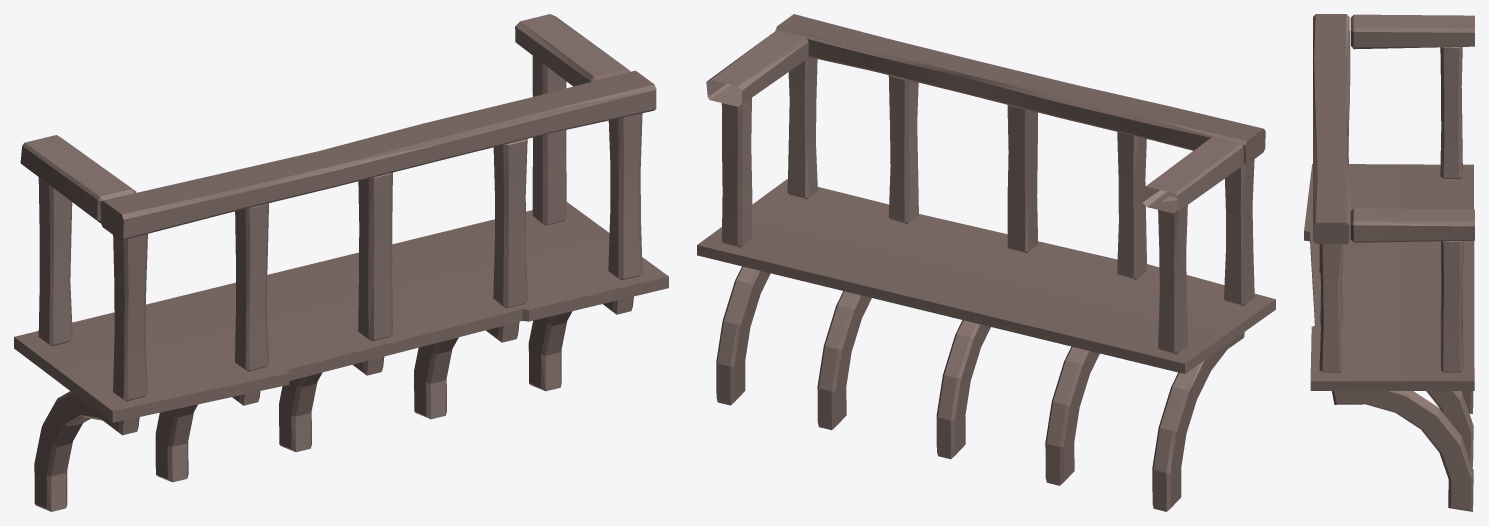
Rendered from balcony_big.glb.
The picture shows the model from 3 angles, left to right: view 1: azimuth 30°, elevation 25°; view 2: azimuth 150°, elevation 25°; view 3: azimuth 270°, elevation 25°; orthographic projection. The views are drawn at different scales.
Visible parts, largest first — view 1: balcony_B_med_diffuse_0; view 2: balcony_B_med_diffuse_0; view 3: balcony_B_med_diffuse_0.
Part boxes in pixels (<box>): balcony_B_med_diffuse_0: <box>14,14,668,511</box>; balcony_B_med_diffuse_0: <box>697,14,1275,511</box>; balcony_B_med_diffuse_0: <box>1304,14,1474,511</box>.
Size of the model in its own units: 3.36 by 2.12 by 1.12.
Materials: 1 (1 with a texture image).
